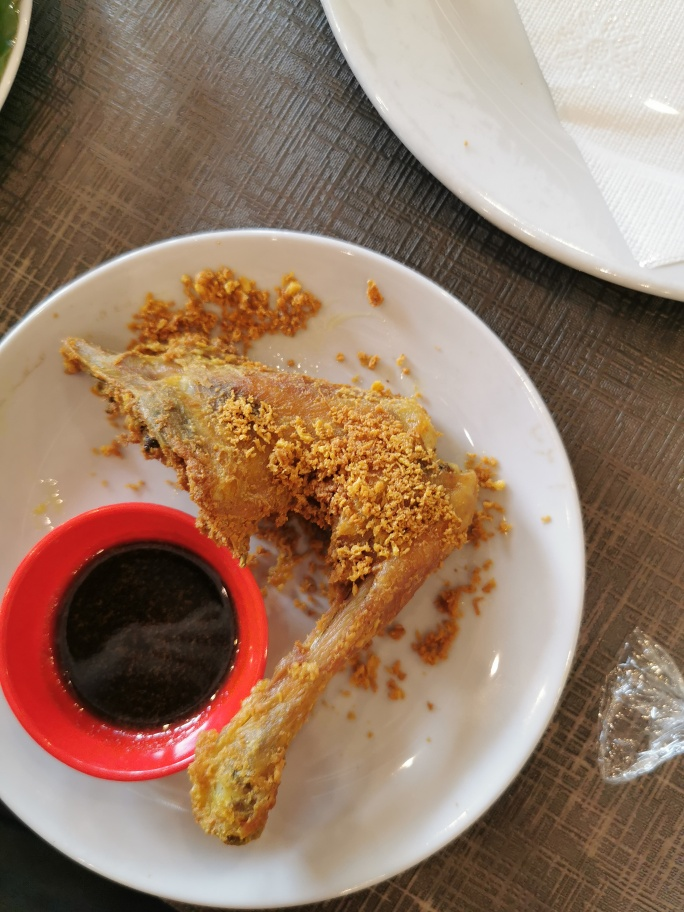ayam goreng: (59, 328, 482, 851)
kecap: (6, 506, 262, 773)
